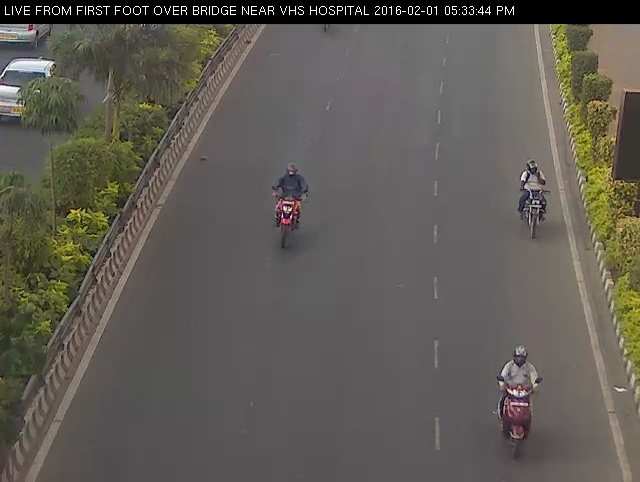Person: (490, 341, 549, 464), (261, 152, 316, 260), (505, 150, 563, 247)
